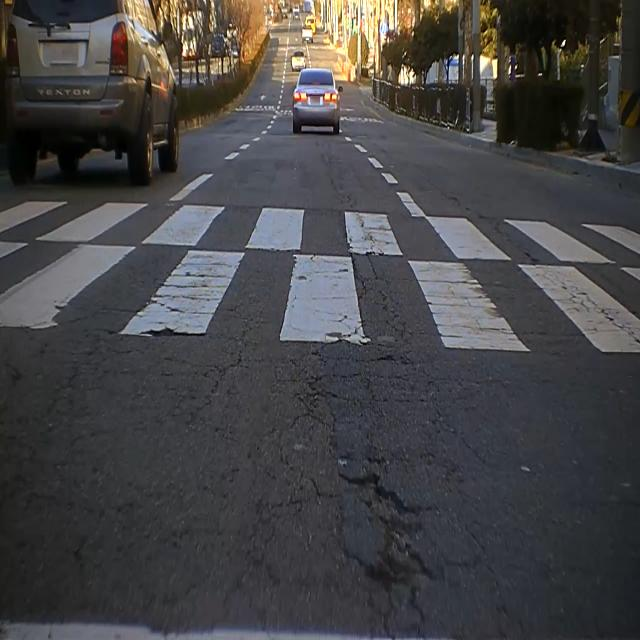Pothole: (332, 444, 457, 610)
